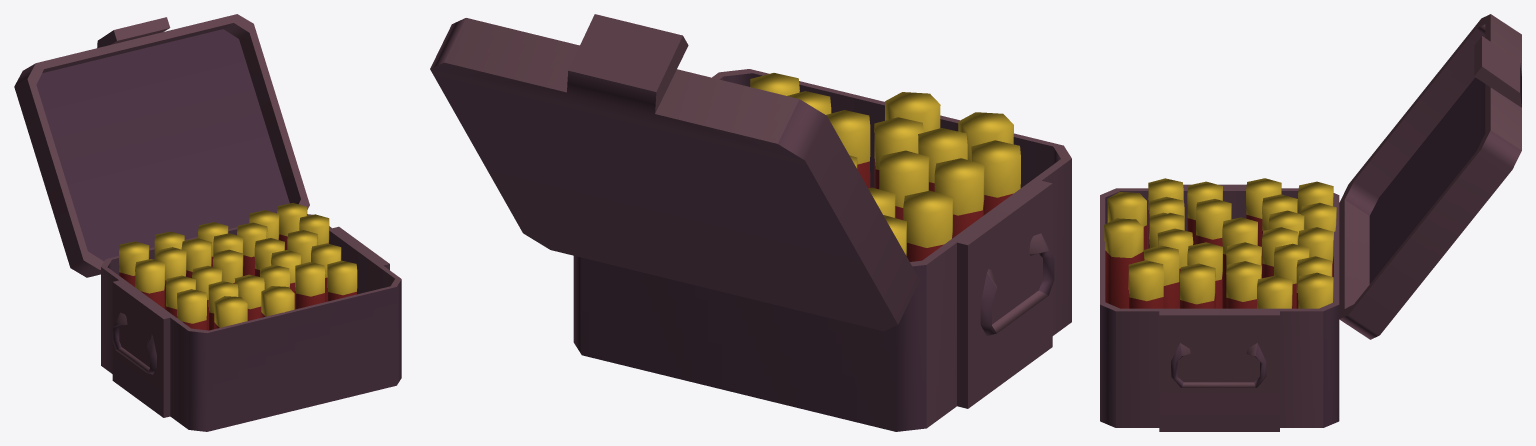
The model's file is Shotgun_Box.fbx.
The picture shows the model from 3 angles, left to right: view 1: azimuth 30°, elevation 25°; view 2: azimuth 150°, elevation 25°; view 3: azimuth 270°, elevation 25°; orthographic projection. The views are drawn at different scales.
Visible parts, largest first — view 1: Shotgun_Box, Shotgun_Shells; view 2: Shotgun_Box, Shotgun_Shells; view 3: Shotgun_Box, Shotgun_Shells.
Part boxes in pixels (x1,y1,x2,y2): Shotgun_Box: [14, 14, 401, 431]; Shotgun_Shells: [119, 203, 357, 330]; Shotgun_Box: [430, 14, 1071, 431]; Shotgun_Shells: [750, 73, 1020, 261]; Shotgun_Box: [1100, 14, 1521, 431]; Shotgun_Shells: [1104, 178, 1336, 308].
Size of the model in its own units: 65.6 by 70 by 84.85.
